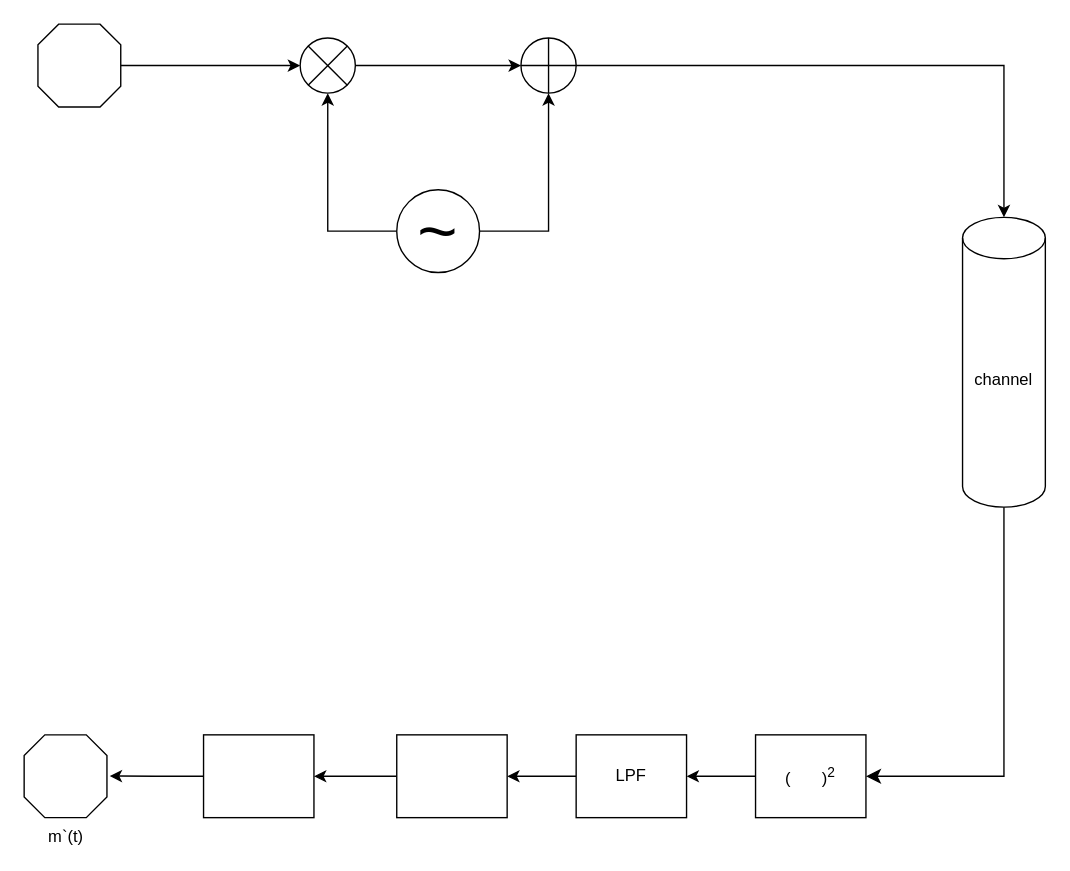
The diagram is 1070 pixels wide and 871 high, and some of its shapes have lost their labels. Here are the shapes that lost their labels. From the top down, the centre of each, then its label:
At pixel 79 65: "m(t)".
At pixel 258 775: "DC block".
At pixel 451 775: "SQRT".
